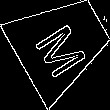M_NE: (30, 11, 93, 76)
